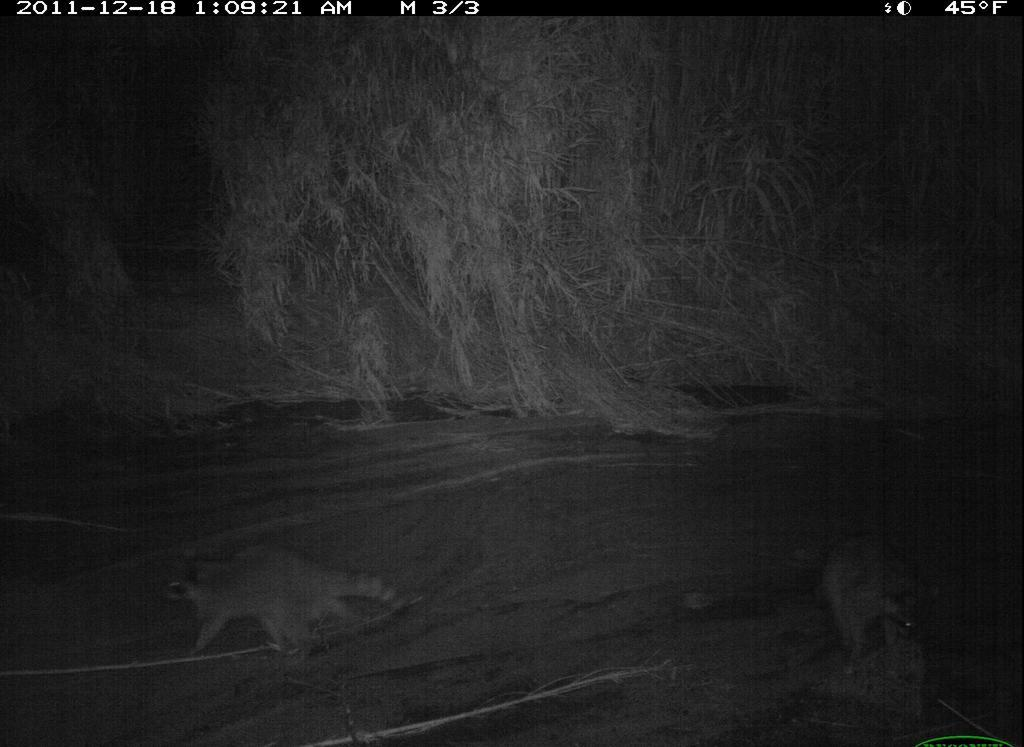raccoon: (154, 536, 414, 664), (811, 514, 954, 685)
